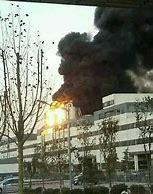smoke: (54, 5, 153, 102)
